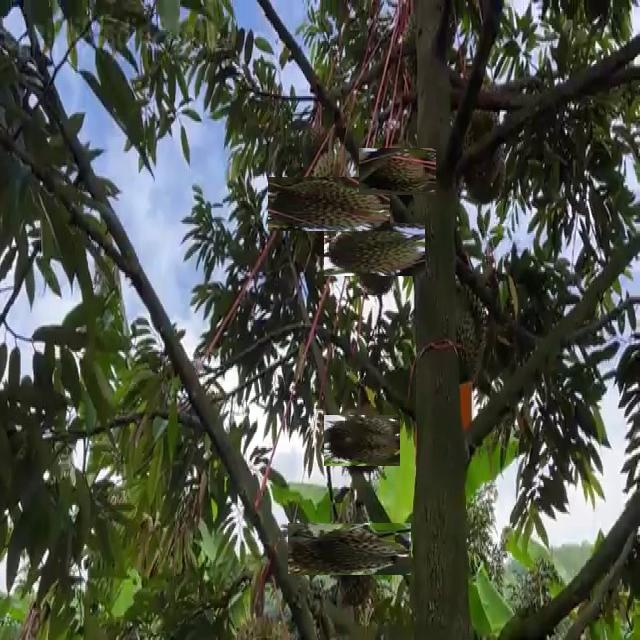durian: (409, 278, 489, 386), (284, 160, 373, 248), (305, 504, 394, 592), (336, 211, 413, 288), (460, 97, 508, 208), (330, 408, 394, 472), (366, 140, 428, 203)
